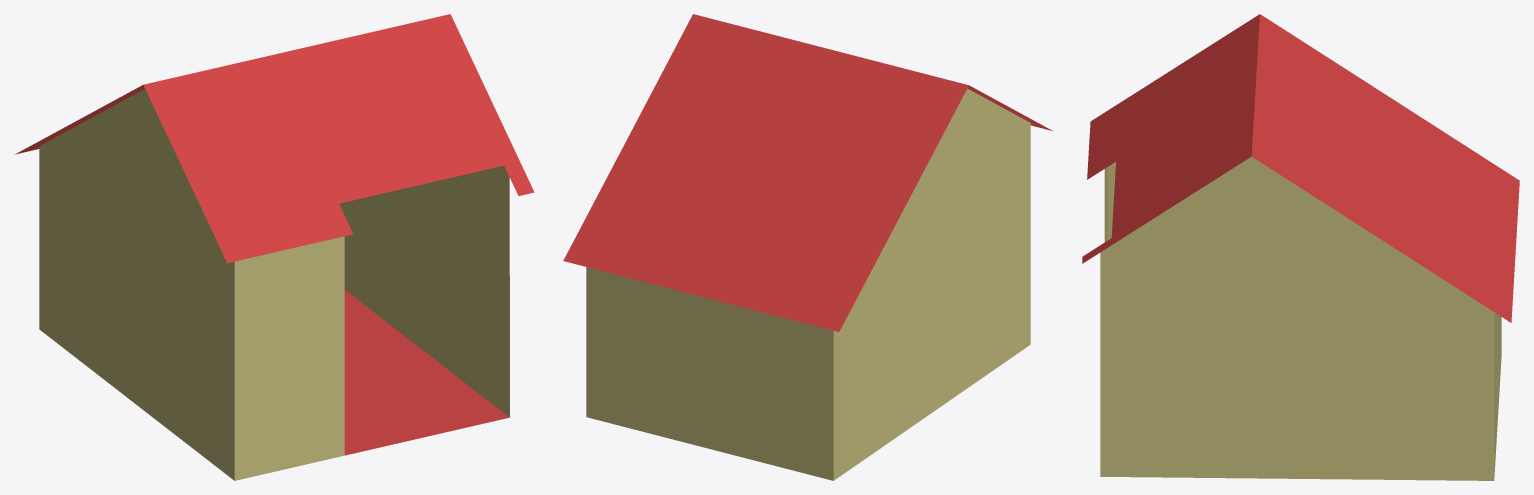
The picture shows the model from 3 angles, left to right: view 1: azimuth 30°, elevation 25°; view 2: azimuth 150°, elevation 25°; view 3: azimuth 270°, elevation 25°; orthographic projection. The views are drawn at different scales.
Size of the model in its own units: 9.86 by 12.4 by 10.3.
